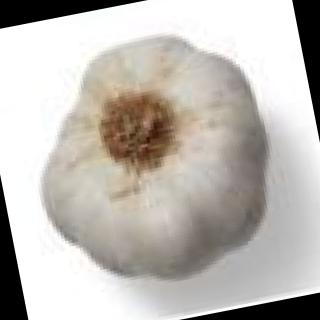Bawang Putih: (11, 12, 307, 305)
